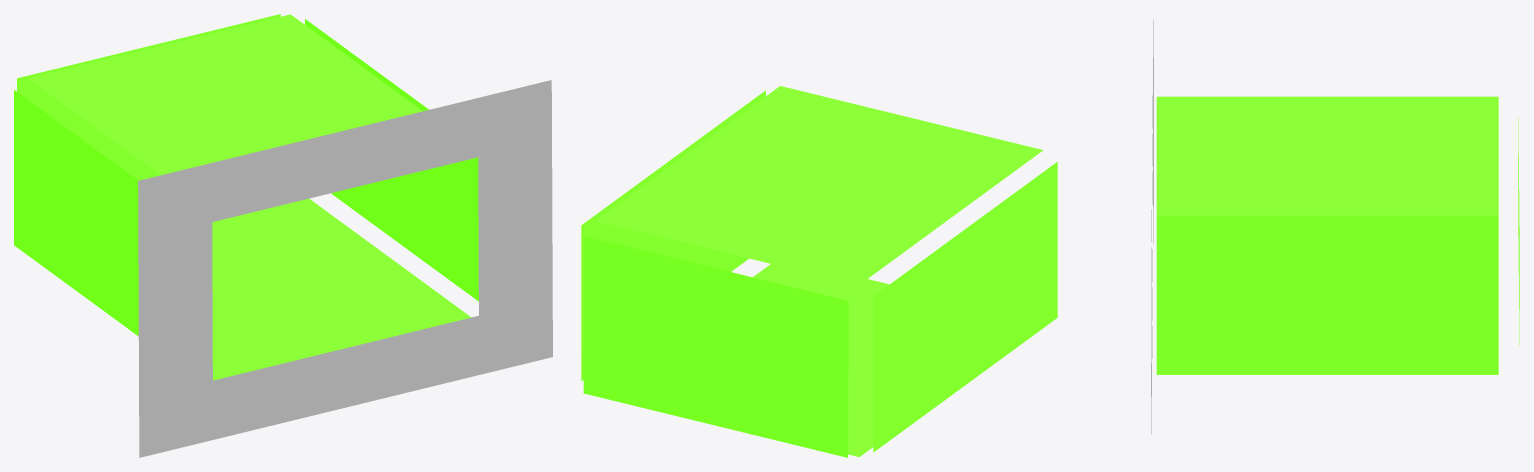
Rendered from rev.glb.
The picture shows the model from 3 angles, left to right: view 1: azimuth 30°, elevation 25°; view 2: azimuth 150°, elevation 25°; view 3: azimuth 270°, elevation 25°; orthographic projection. The views are drawn at different scales.
Parts seen in each view (by area): view 1: Grid, Plane.003, Plane, Plane.004, Plane.002, Plane.001; view 2: Plane.003, Plane.001, Plane.004, Plane, Plane.002; view 3: Plane.002, Plane.003, Plane.004, Grid.
Boxes of the visible parts, x1=… form: Grid: x1=138, y1=80, x2=552, y2=457; Plane.003: x1=28, y1=14, x2=422, y2=175; Plane: x1=212, y1=198, x2=471, y2=380; Plane.004: x1=14, y1=90, x2=138, y2=336; Plane.002: x1=305, y1=19, x2=478, y2=301; Plane.001: x1=17, y1=14, x2=280, y2=180; Plane.003: x1=596, y1=86, x2=1043, y2=285; Plane.001: x1=583, y1=236, x2=848, y2=457; Plane.004: x1=873, y1=162, x2=1057, y2=452; Plane: x1=753, y1=264, x2=889, y2=457; Plane.002: x1=581, y1=90, x2=765, y2=381; Plane.002: x1=1156, y1=229, x2=1498, y2=373; Plane.003: x1=1156, y1=96, x2=1498, y2=215; Plane.004: x1=1156, y1=215, x2=1498, y2=229; Grid: x1=1151, y1=19, x2=1153, y2=434.
Size of the model in its own units: 22.75 by 14.52 by 18.9.
